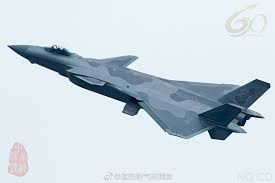fighter: (6, 33, 269, 143)
